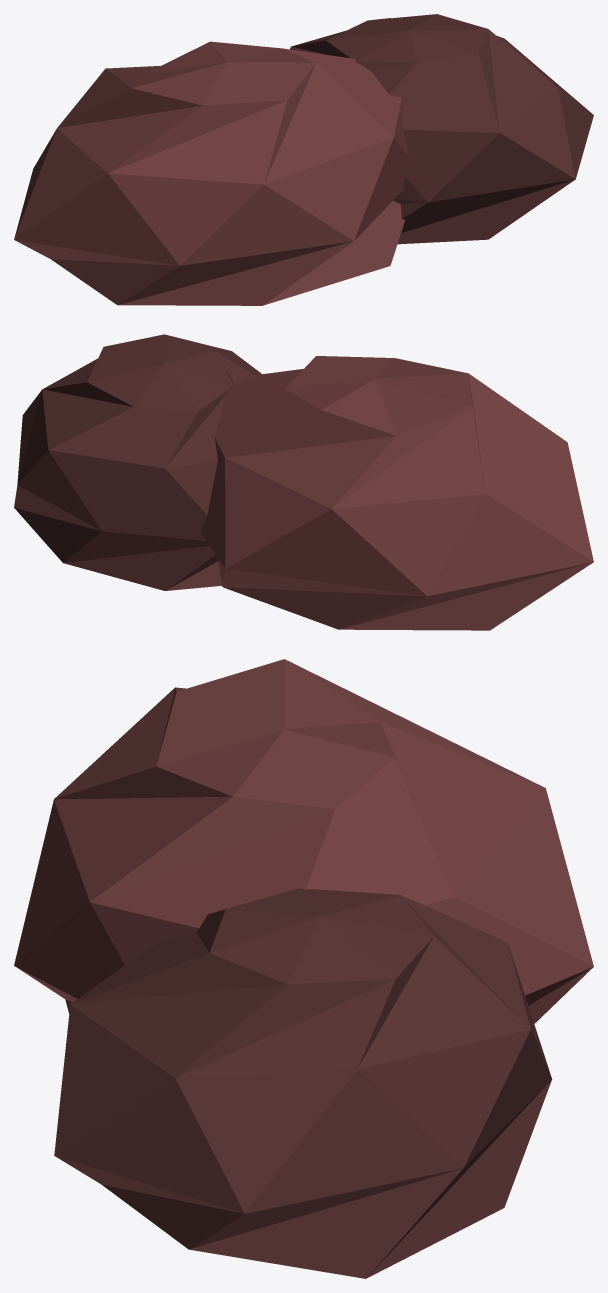
Rendered from item_meat_small_a.obj.
The picture shows the model from 3 angles, top to bottom: view 1: azimuth 30°, elevation 25°; view 2: azimuth 150°, elevation 25°; view 3: azimuth 270°, elevation 25°; orthographic projection. The views are drawn at different scales.
Size of the model in its own units: 0.6398 by 0.1996 by 0.3542.
